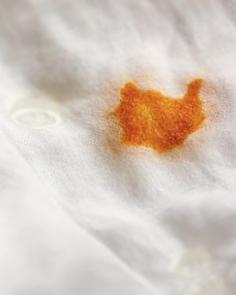stain: (101, 71, 210, 163)
